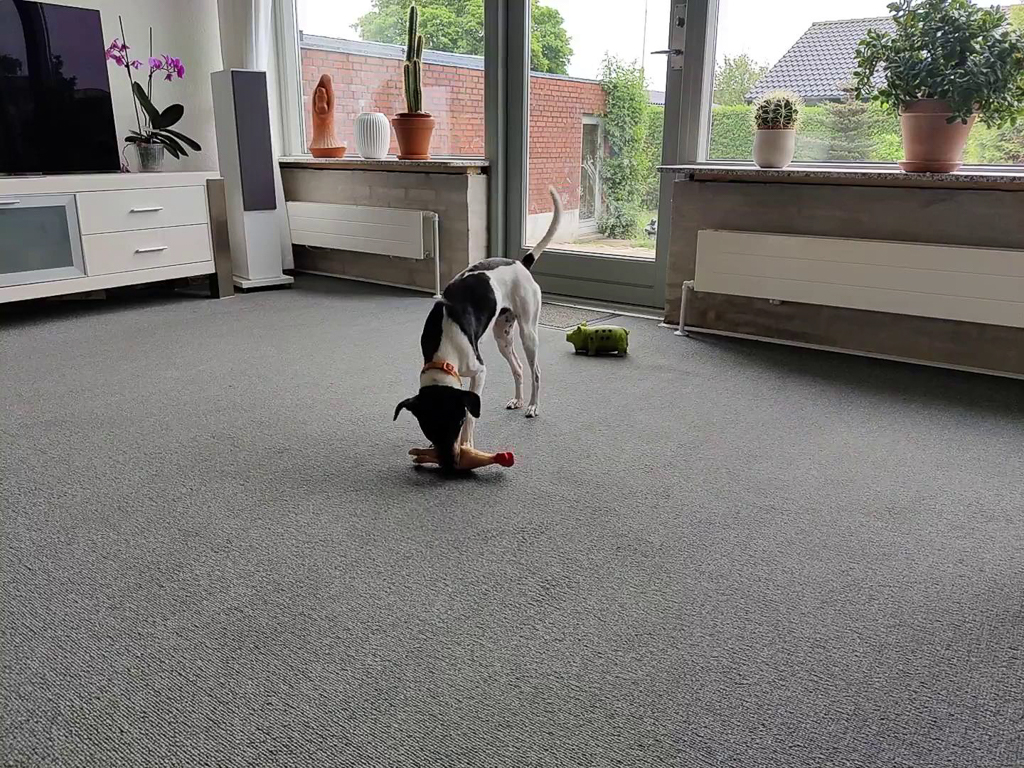Dog: (357, 181, 574, 476)
Humanoid: (302, 67, 352, 152), (640, 214, 661, 245)
